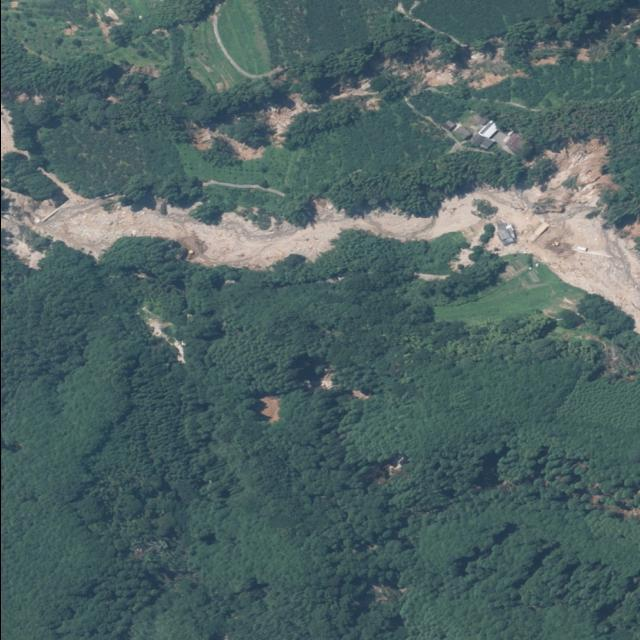landslide: (0, 141, 640, 332)
